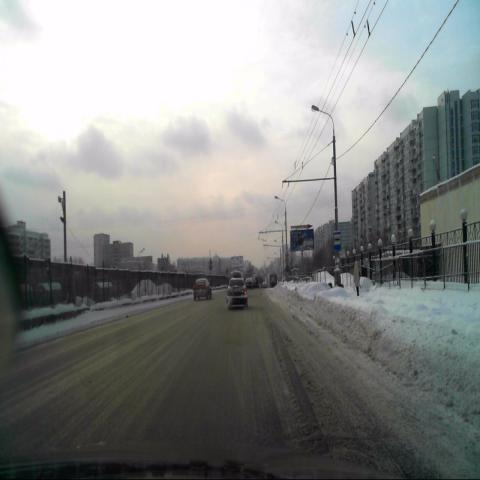5_16: (334, 231, 341, 251)
